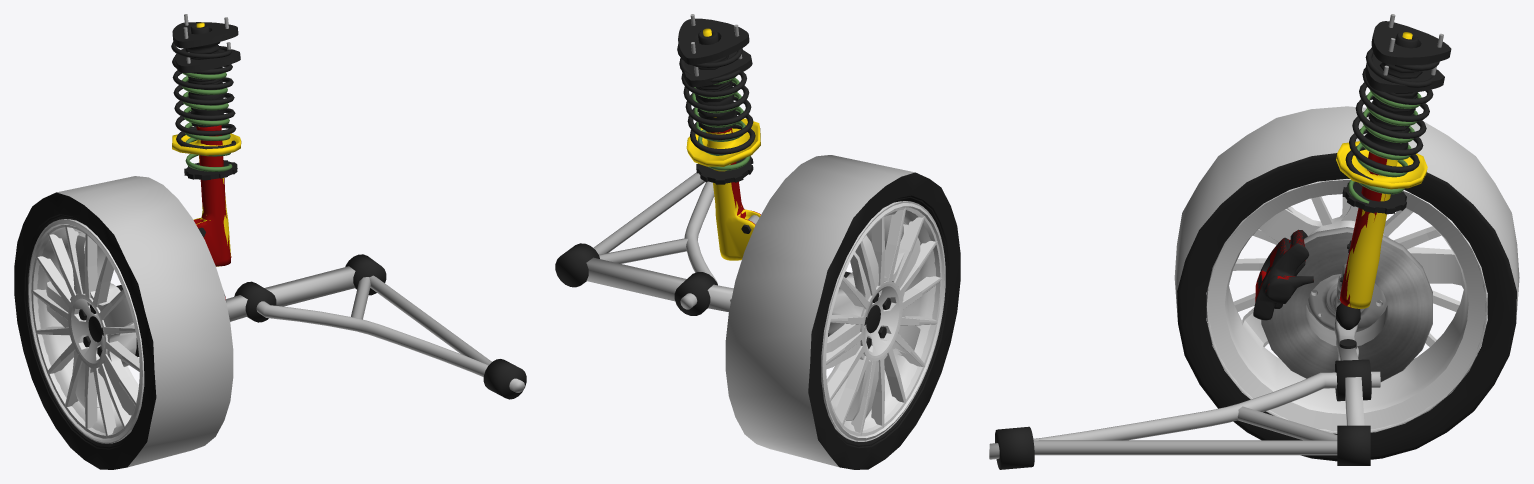
Rendered from 2609SuspensionFR.FBX.
The picture shows the model from 3 angles, left to right: view 1: azimuth 30°, elevation 25°; view 2: azimuth 150°, elevation 25°; view 3: azimuth 270°, elevation 25°; orthographic projection. The views are drawn at different scales.
Visible parts, largest first — view 1: 09WheelFRType2, 09ArmR, 09WheelFRType1, 09AbsorberFRSport, 09AbsorberFRStock; view 2: 09WheelFRType2, 09WheelFRType1, 09AbsorberFRStock, 09ArmR, 09AbsorberFRSport; view 3: 09WheelFRType2, 09WheelFRType1, 09ArmR, 09BrakeDiskFR, 09AbsorberFRStock, 09AbsorberFRSport, 09CaliperFRStock, 09HubFR.
Part boxes in pixels (x1,y1,x2,y2): 09WheelFRType2: (14, 176, 233, 469); 09ArmR: (226, 254, 526, 399); 09WheelFRType1: (25, 215, 144, 448); 09AbsorberFRSport: (175, 42, 240, 266); 09AbsorberFRStock: (171, 14, 241, 266); 09WheelFRType2: (725, 155, 960, 469); 09WheelFRType1: (821, 196, 948, 446); 09AbsorberFRStock: (677, 14, 760, 260); 09ArmR: (555, 172, 733, 315); 09AbsorberFRSport: (682, 50, 760, 233); 09WheelFRType2: (1174, 106, 1519, 461); 09WheelFRType1: (1203, 176, 1490, 435); 09ArmR: (989, 339, 1380, 469); 09BrakeDiskFR: (1261, 227, 1432, 381); 09AbsorberFRStock: (1336, 14, 1451, 308); 09AbsorberFRSport: (1339, 54, 1444, 307); 09CaliperFRStock: (1253, 229, 1313, 320); 09HubFR: (1308, 263, 1385, 357).
Size of the model in its own units: 22.48 by 27.81 by 28.28.
